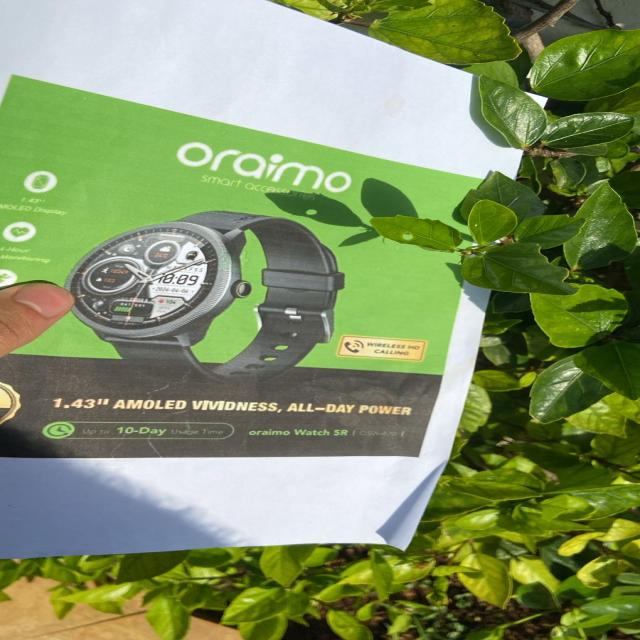Oraimo Watch 5R OSW-820: (250, 424, 417, 442)
